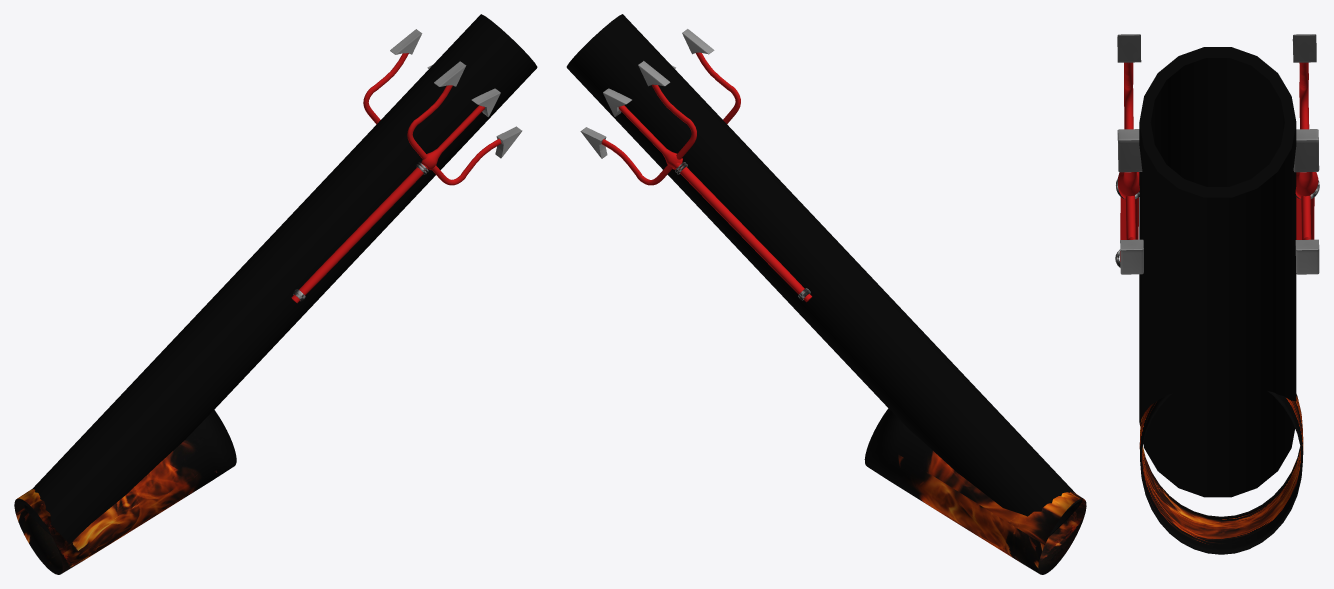
Rendered from toboggan.FBX.
3 views of the same model, side by side, from view 1: azimuth 30°, elevation 25°; view 2: azimuth 150°, elevation 25°; view 3: azimuth 270°, elevation 25° (orthographic). The views are drawn at different scales.
Parts seen in each view (by area): view 1: Tube001, Tube002, Cylindre007, Cylindre005; view 2: Tube001, Tube002, Cylindre001, Cylindre004; view 3: Tube001, Tube002, Prisme003, Prisme005, Prisme002, Prisme004, Prisme006, Prisme001, Cylindre008, Cylindre002, Cylindre004, Cylindre005 (+4 smaller).
Part boxes in pixels (box(x1,y1,x2,y2)): Tube001: box(20, 14, 537, 543); Tube002: box(14, 410, 236, 574); Cylindre007: box(291, 164, 428, 303); Cylindre005: box(421, 105, 484, 170); Tube001: box(566, 14, 1082, 536); Tube002: box(864, 408, 1086, 574); Cylindre001: box(674, 163, 812, 302); Cylindre004: box(618, 105, 682, 169); Tube001: box(1139, 47, 1296, 497); Tube002: box(1139, 391, 1303, 554); Prisme003: box(1293, 129, 1319, 172); Prisme005: box(1117, 129, 1142, 172); Prisme002: box(1295, 239, 1319, 274); Prisme004: box(1120, 239, 1143, 274); Prisme006: box(1117, 34, 1141, 62); Prisme001: box(1292, 34, 1316, 62); Cylindre008: box(1124, 62, 1133, 129); Cylindre002: box(1299, 62, 1309, 129); Cylindre004: box(1295, 172, 1318, 198); Cylindre005: box(1118, 172, 1139, 198).
Size of the model in its own units: 15398 by 13093 by 2715.
Materials: 4 (2 with a texture image).
